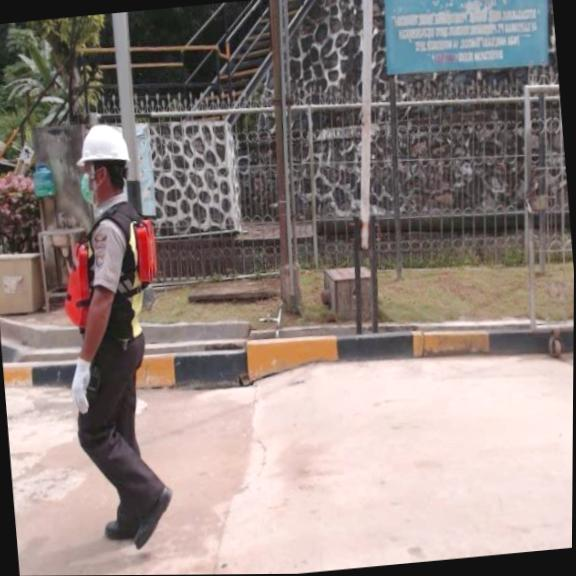safety_vest: (56, 217, 165, 336)
